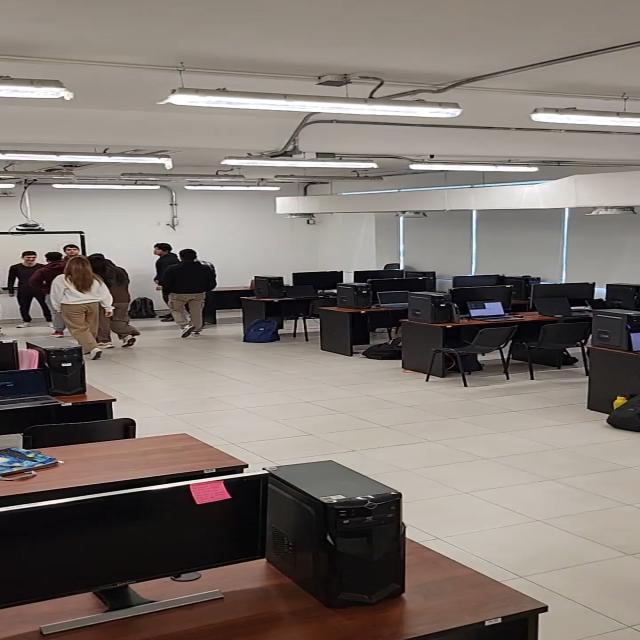Persona: (64, 261, 124, 375), (165, 248, 220, 338), (11, 250, 51, 317)
